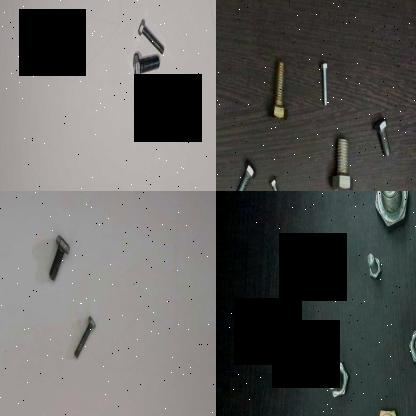Bolts: (369, 191, 411, 230), (322, 350, 352, 404), (267, 57, 291, 124), (45, 230, 75, 282), (330, 130, 354, 191), (127, 52, 164, 89), (136, 12, 166, 56), (73, 312, 100, 360), (310, 230, 338, 272), (372, 113, 396, 161), (317, 55, 332, 107), (365, 247, 386, 283), (234, 158, 256, 191), (370, 400, 404, 416), (407, 324, 416, 372), (266, 172, 287, 191)
